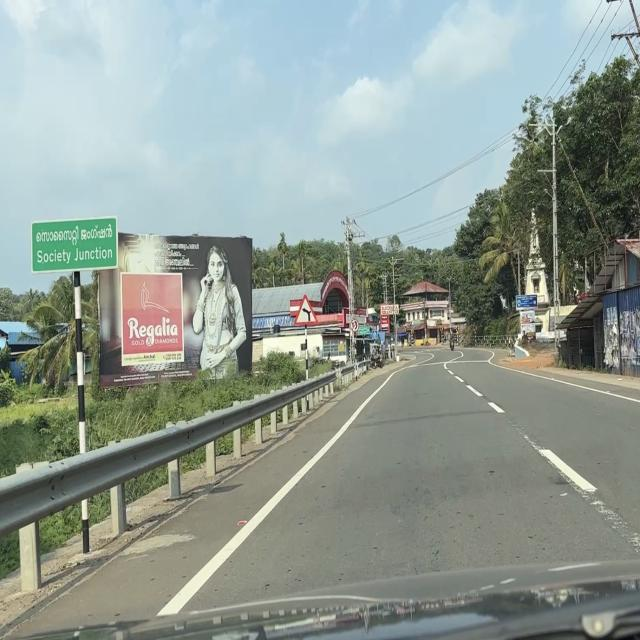GENERAL: (30, 215, 119, 275)
LEFT_TURN_AHEAD: (294, 294, 319, 327)
OVERTAKING_PROHIBITED: (350, 319, 360, 332)
